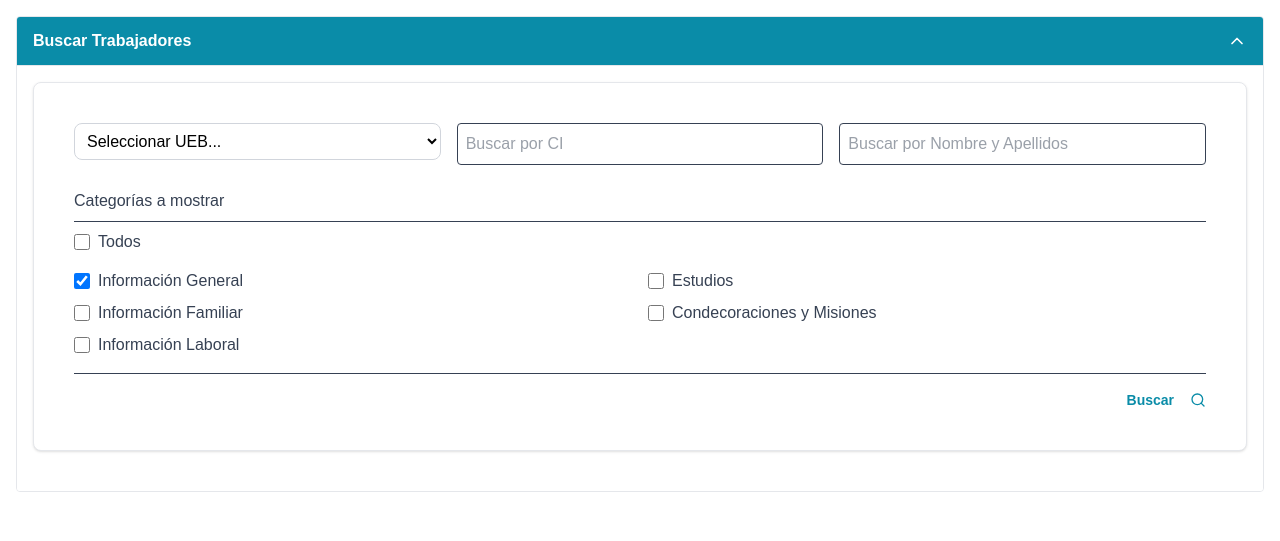
BuscarTrabajador - Main Component › renders empty message when no workers found
Select "AICA" in the dropdown at (257, 142), box [74, 123, 441, 160]
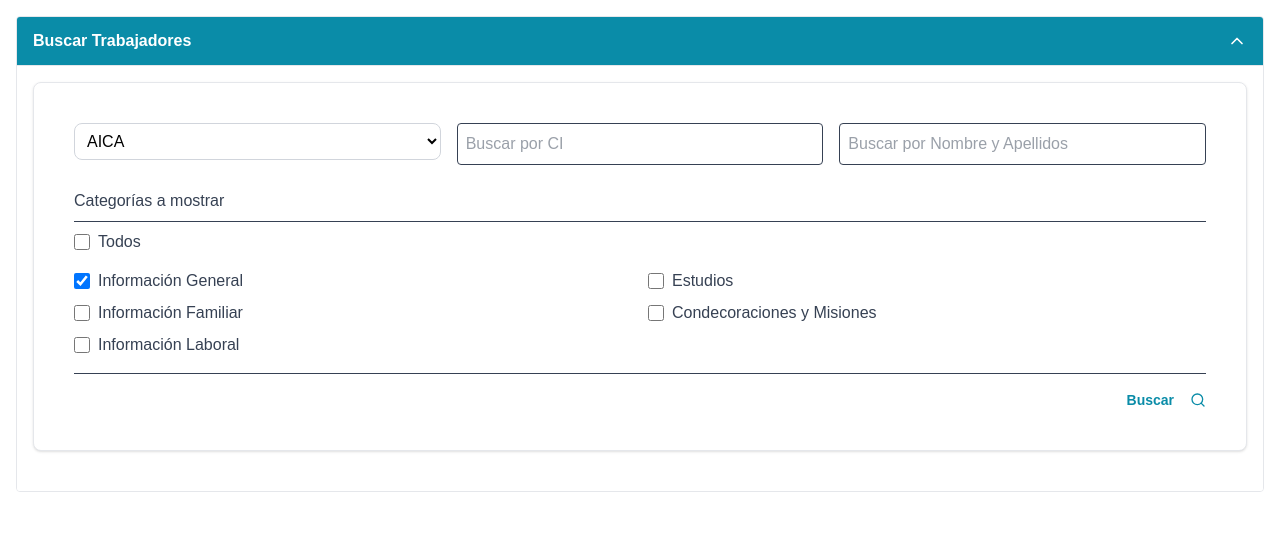
Type "nobody" into the field with placeholder "Buscar por Nombre y Apellidos".
click(1023, 144); type("nobody")  # box [839, 123, 1206, 165]
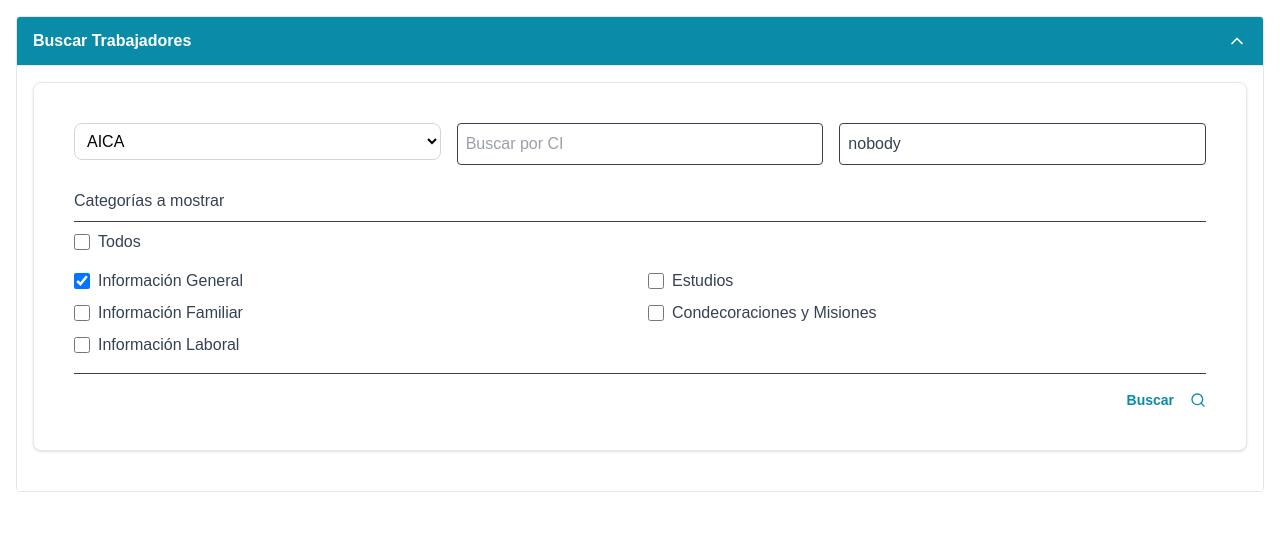
Click the button "Buscar".
click(1166, 400)  # box [1126, 390, 1206, 410]
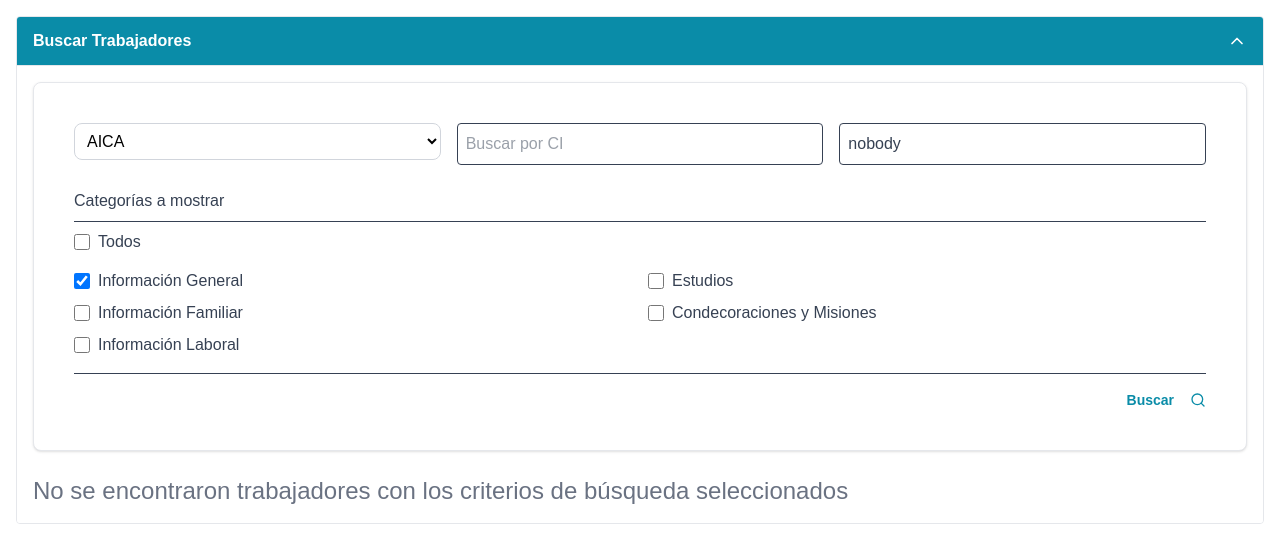
Now the text "No se encontraron trabajadores" is shown, box [33, 477, 848, 504]
